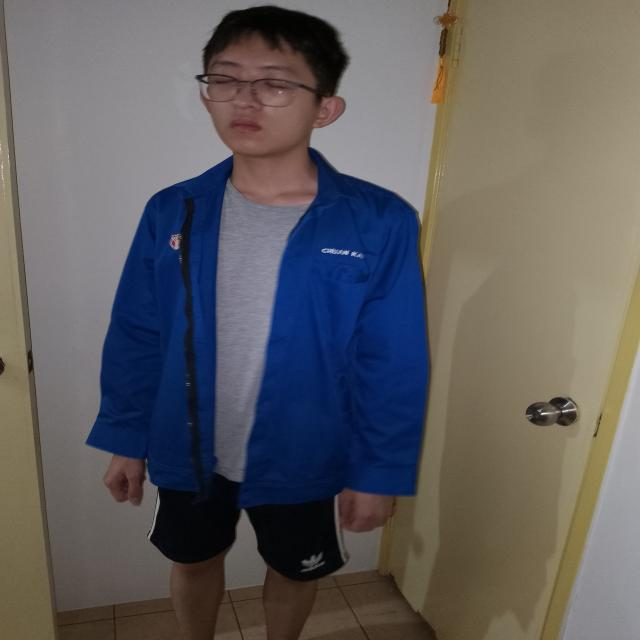person_with_labcoat: (87, 6, 428, 640)
